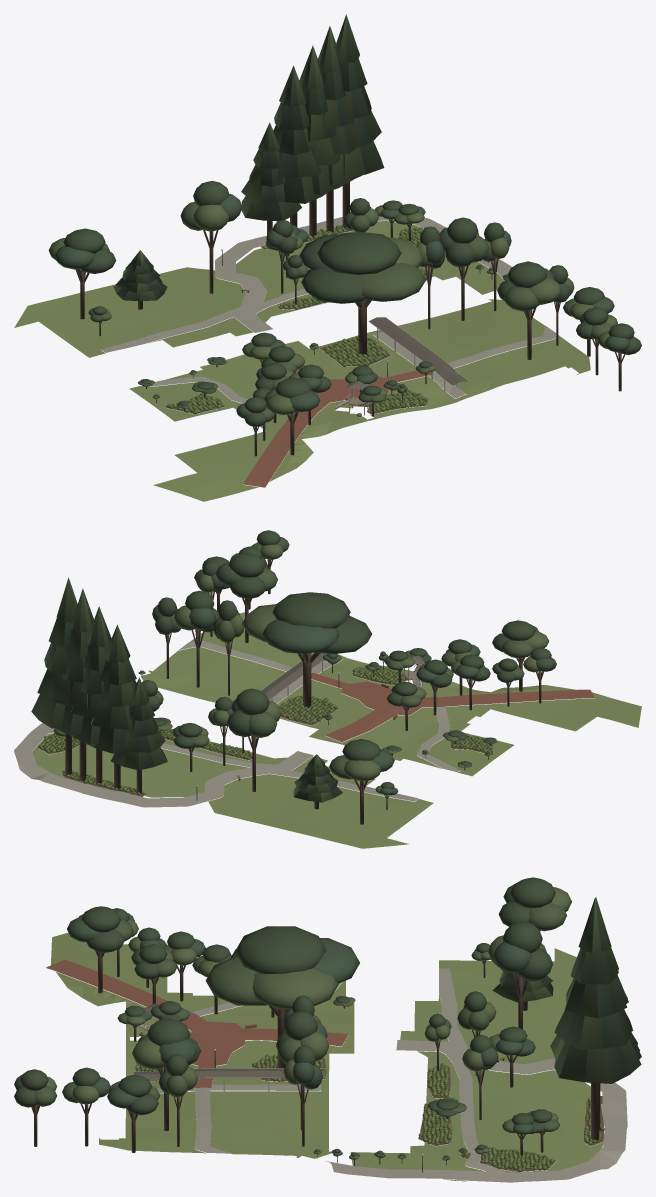
The model's file is site.glb.
The picture shows the model from 3 angles, top to bottom: view 1: azimuth 30°, elevation 25°; view 2: azimuth 150°, elevation 25°; view 3: azimuth 270°, elevation 25°; orthographic projection. The views are drawn at different scales.
Visible parts, largest first — view 1: kincaid-education-planting, kincaid-education-paving, kincaid-education-furnishings; view 2: kincaid-education-planting, kincaid-education-paving, kincaid-education-furnishings; view 3: kincaid-education-planting, kincaid-education-paving, kincaid-education-furnishings.
Part boxes in pixels (x1,y1,x2,y2): kincaid-education-planting: (48,14,641,456); kincaid-education-paving: (14,216,590,501); kincaid-education-furnishings: (221,249,488,415); kincaid-education-planting: (31,530,556,824); kincaid-education-paving: (14,612,641,848); kincaid-education-furnishings: (196,653,424,800); kincaid-education-planting: (14,877,641,1172); kincaid-education-paving: (46,932,627,1182); kincaid-education-furnishings: (133,1003,505,1172).
Size of the model in its own units: 104 by 45.57 by 103.
